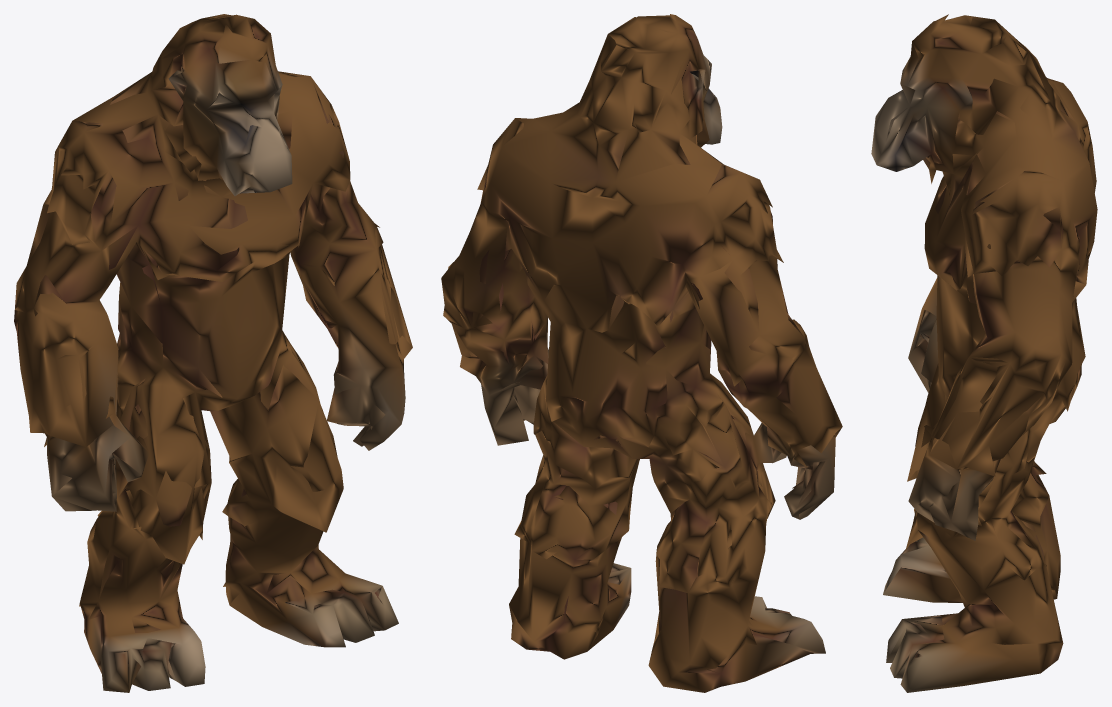
Rendered from gen3d-bigfoot-lod0.glb.
3 views of the same model, side by side, from view 1: azimuth 30°, elevation 25°; view 2: azimuth 150°, elevation 25°; view 3: azimuth 270°, elevation 25° (orthographic). The views are drawn at different scales.
Parts seen in each view (by area): view 1: part_0; view 2: part_0; view 3: part_0.
Boxes of the visible parts, x1=… form: part_0: x1=14, y1=14, x2=412, y2=692; part_0: x1=441, y1=14, x2=842, y2=692; part_0: x1=871, y1=14, x2=1097, y2=692.
Bounding box in the file's own units: 0.6127 × 0.9982 × 0.3364.
